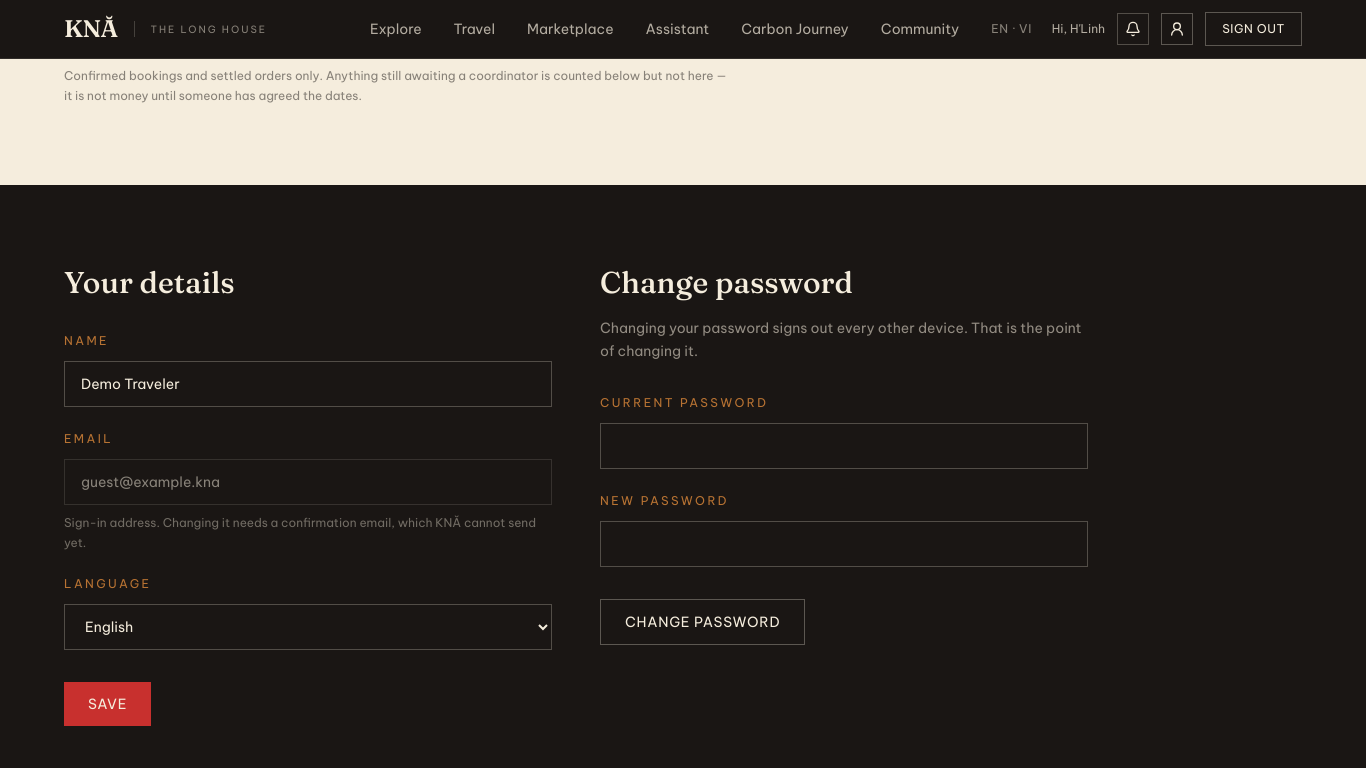
Scenario: Account › saves a name change and refreshes the session
(page scrolled)
Step 1. Replace the text in the field labelled "Name" with "H'Linh Êban" → x=308, y=384, box [64,361,552,407]
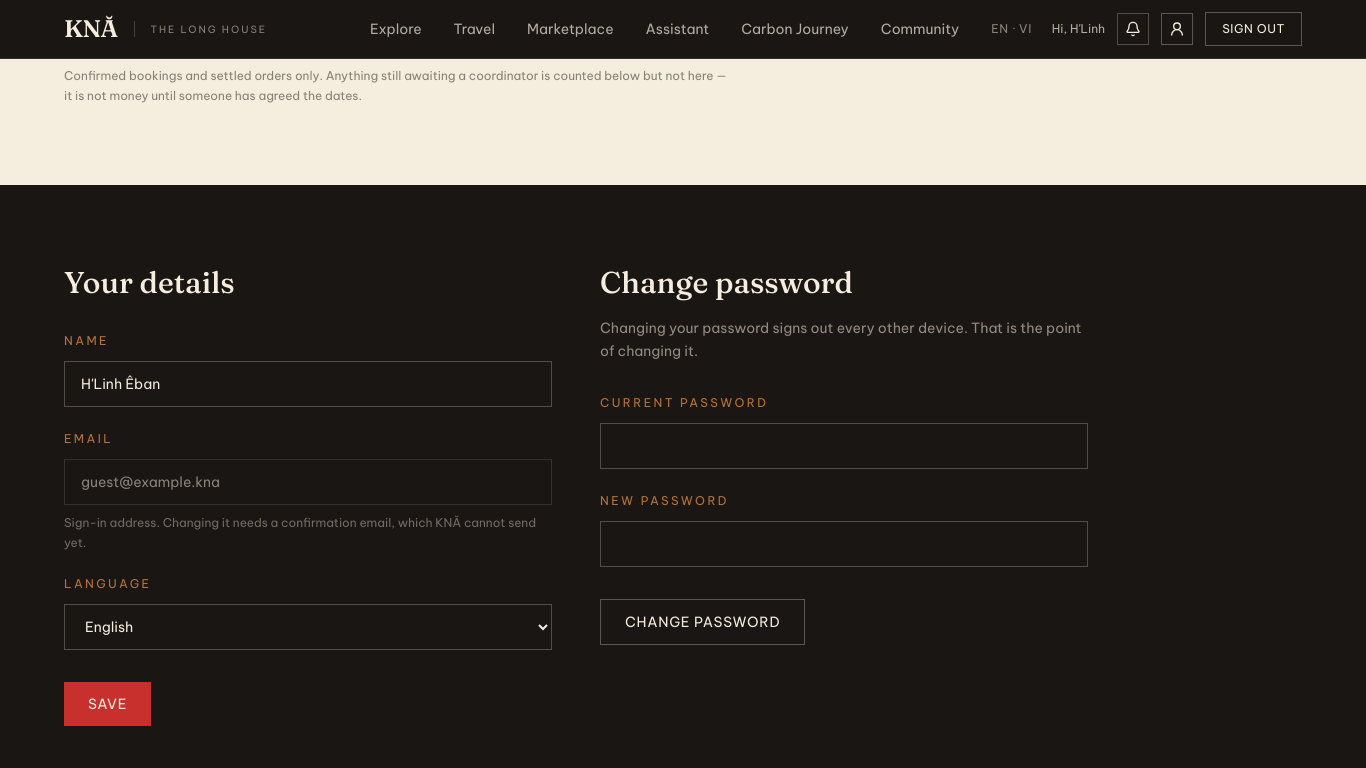
Step 2. Click the button "Save" → x=108, y=704, box [64,682,151,726]
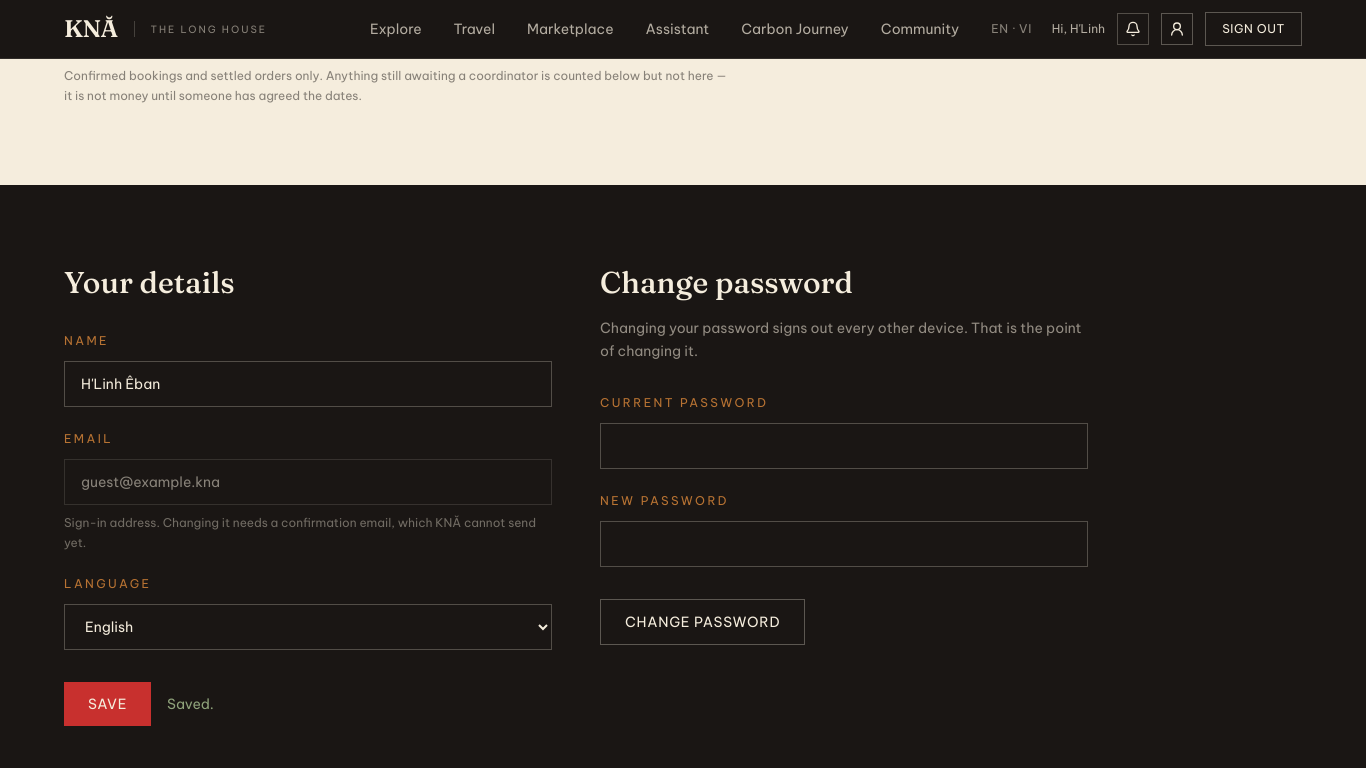
Now the text "Saved." is shown, box [167,694,214,714]
